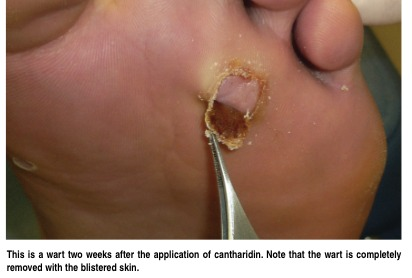Warts: (196, 54, 274, 152)
